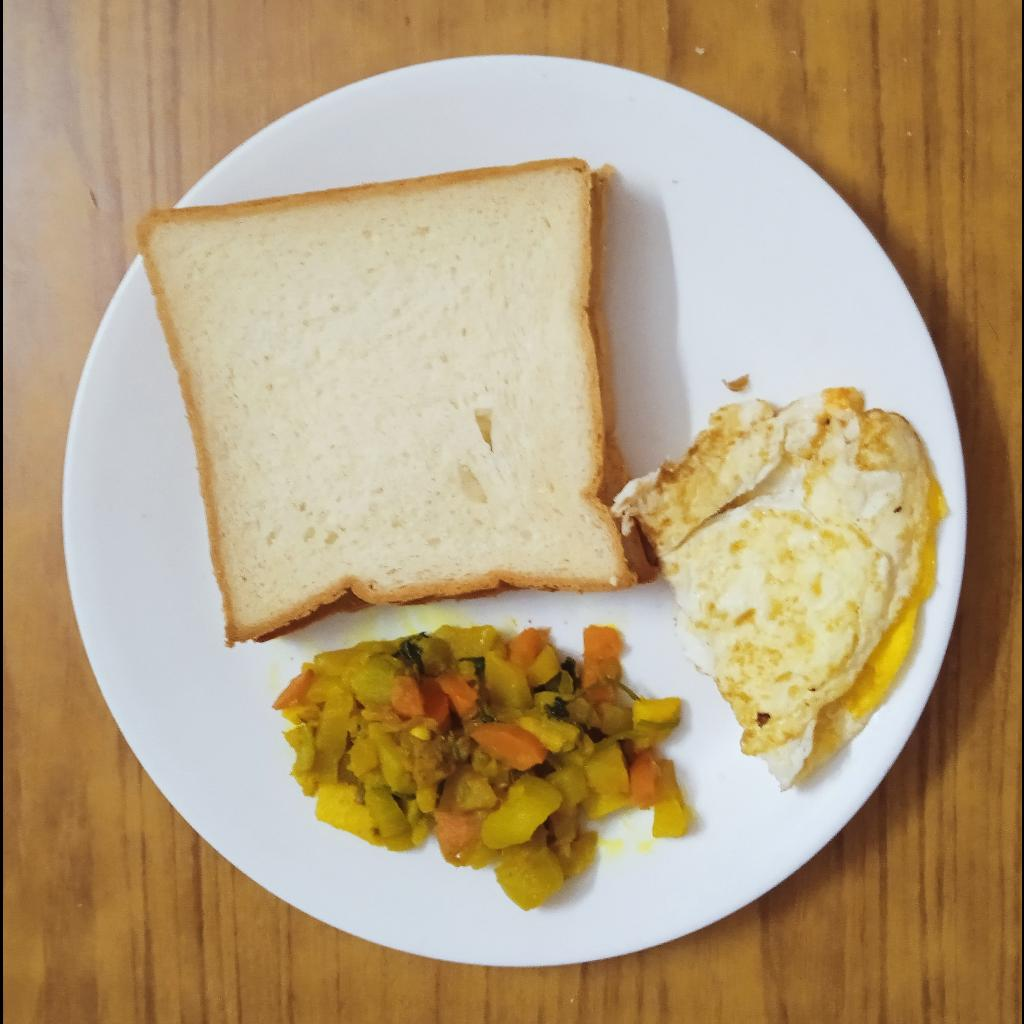bread: (134, 157, 655, 641)
egg-poached: (614, 387, 947, 786)
vegetable: (269, 623, 688, 914)
